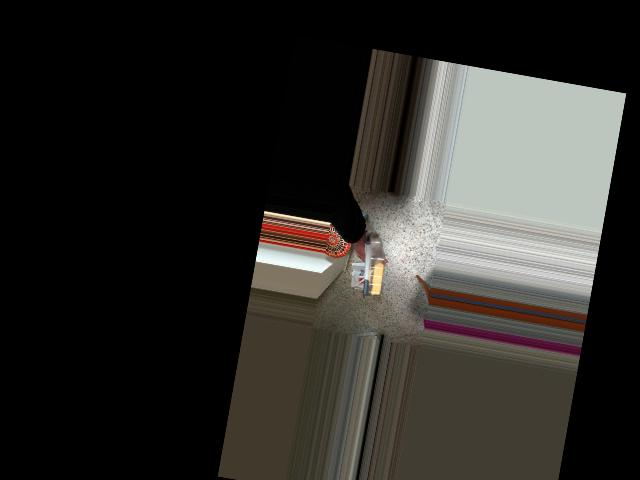cheese: (322, 238, 405, 302)
